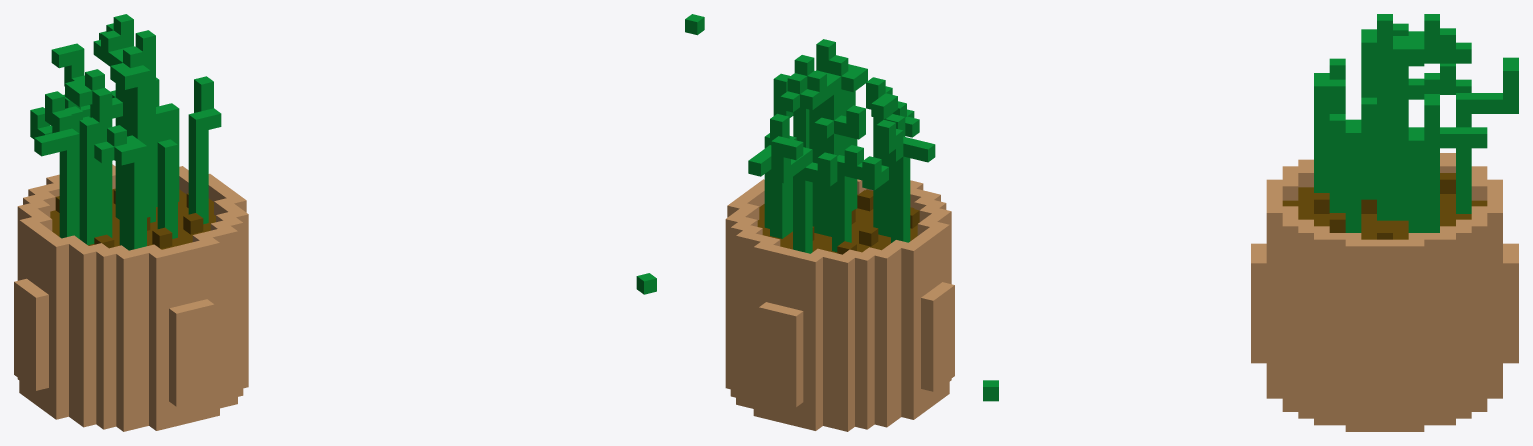
File: flower.obj
3 renders of one model, left to right at view 1: azimuth 30°, elevation 25°; view 2: azimuth 150°, elevation 25°; view 3: azimuth 270°, elevation 25°, orthographic. The views are drawn at different scales.
Visible parts, largest first — view 1: flower; view 2: flower; view 3: flower.
Boxes of the visible parts, x1,y1,x2,y2 form: flower: [14, 14, 656, 431]; flower: [685, 14, 954, 431]; flower: [983, 14, 1518, 431].
Size of the model in its own units: 35 by 26 by 34.
1 material, 1 textured.
